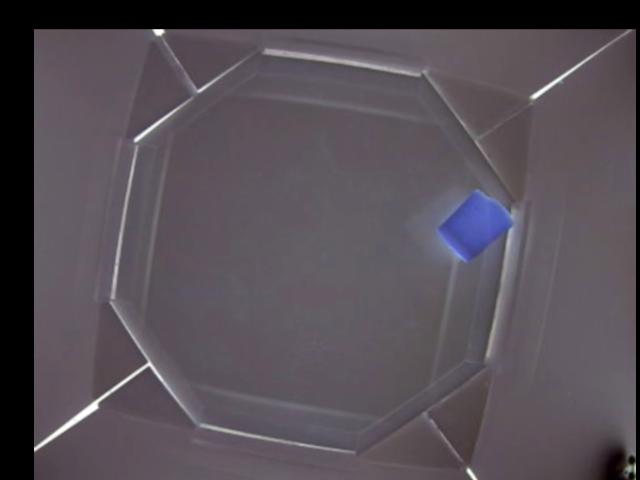Potato: (436, 192, 511, 262)
